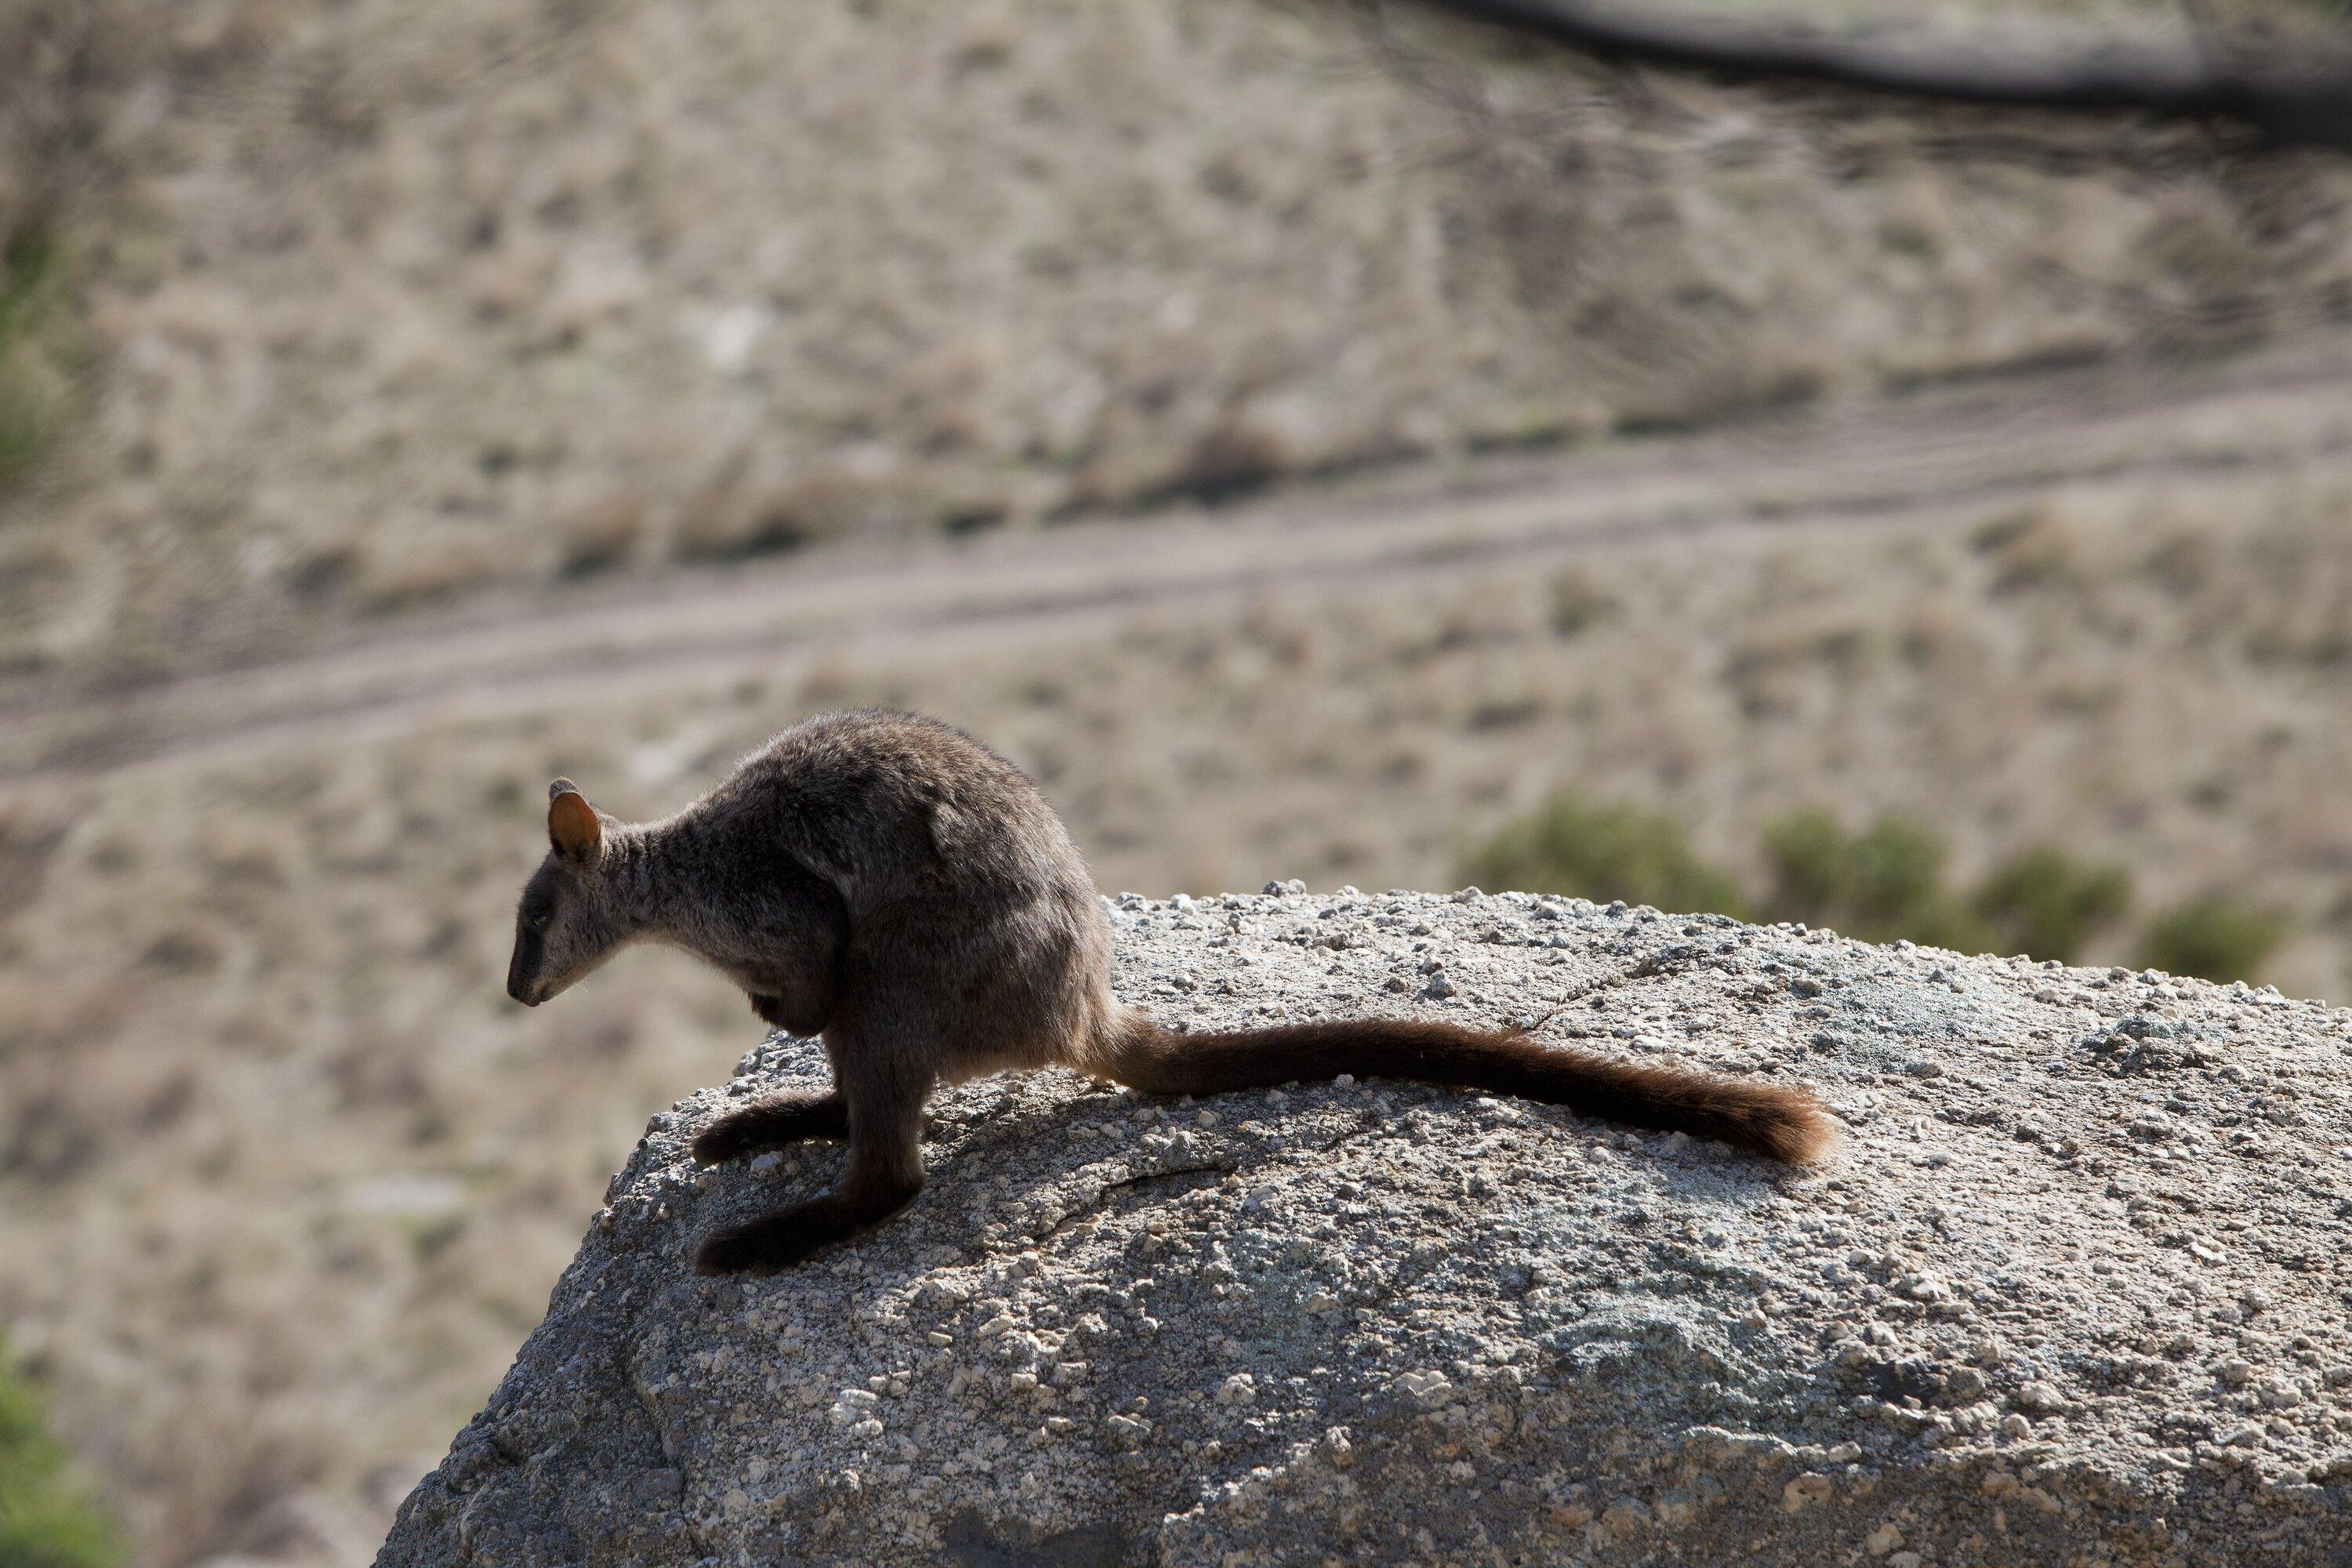Brush-tailed rock-wallaby: (507, 714, 1824, 1292)
